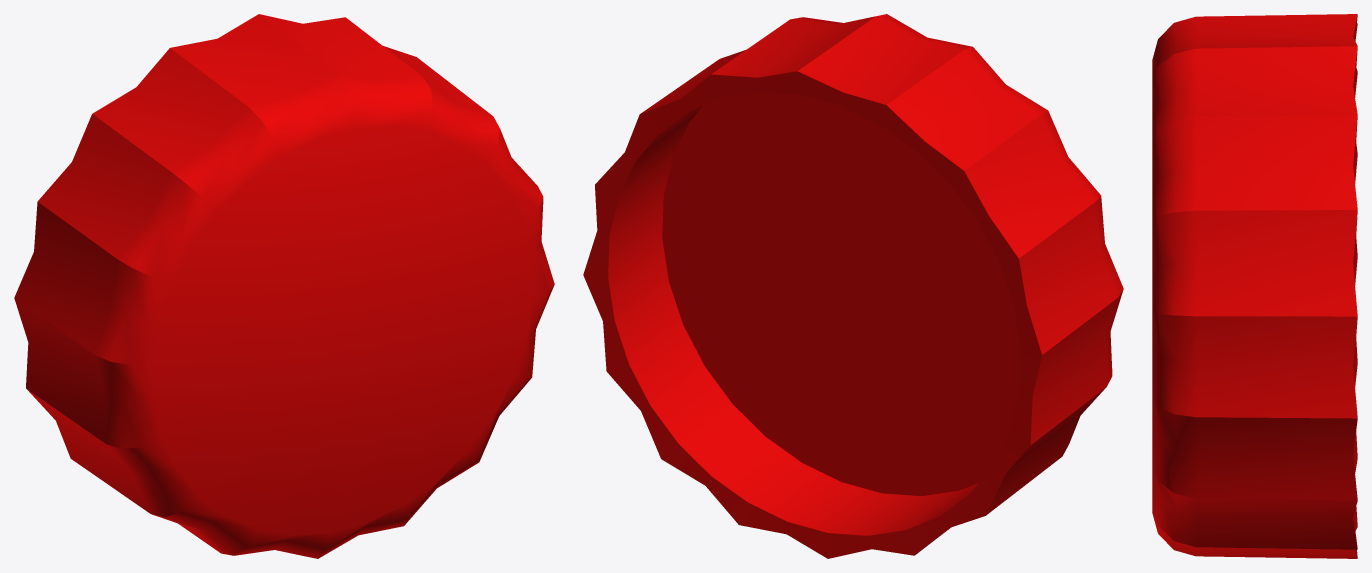
Rendered from Cap.fbx.
3 views of the same model, side by side, from view 1: azimuth 30°, elevation 25°; view 2: azimuth 150°, elevation 25°; view 3: azimuth 270°, elevation 25° (orthographic). The views are drawn at different scales.
Parts seen in each view (by area): view 1: Cylinder; view 2: Cylinder; view 3: Cylinder.
Part boxes in pixels (x1=…): Cylinder: x1=14, y1=14, x2=554, y2=558; Cylinder: x1=583, y1=14, x2=1123, y2=558; Cylinder: x1=1152, y1=14, x2=1357, y2=558.
Size of the model in its own units: 200 by 200 by 74.99.
